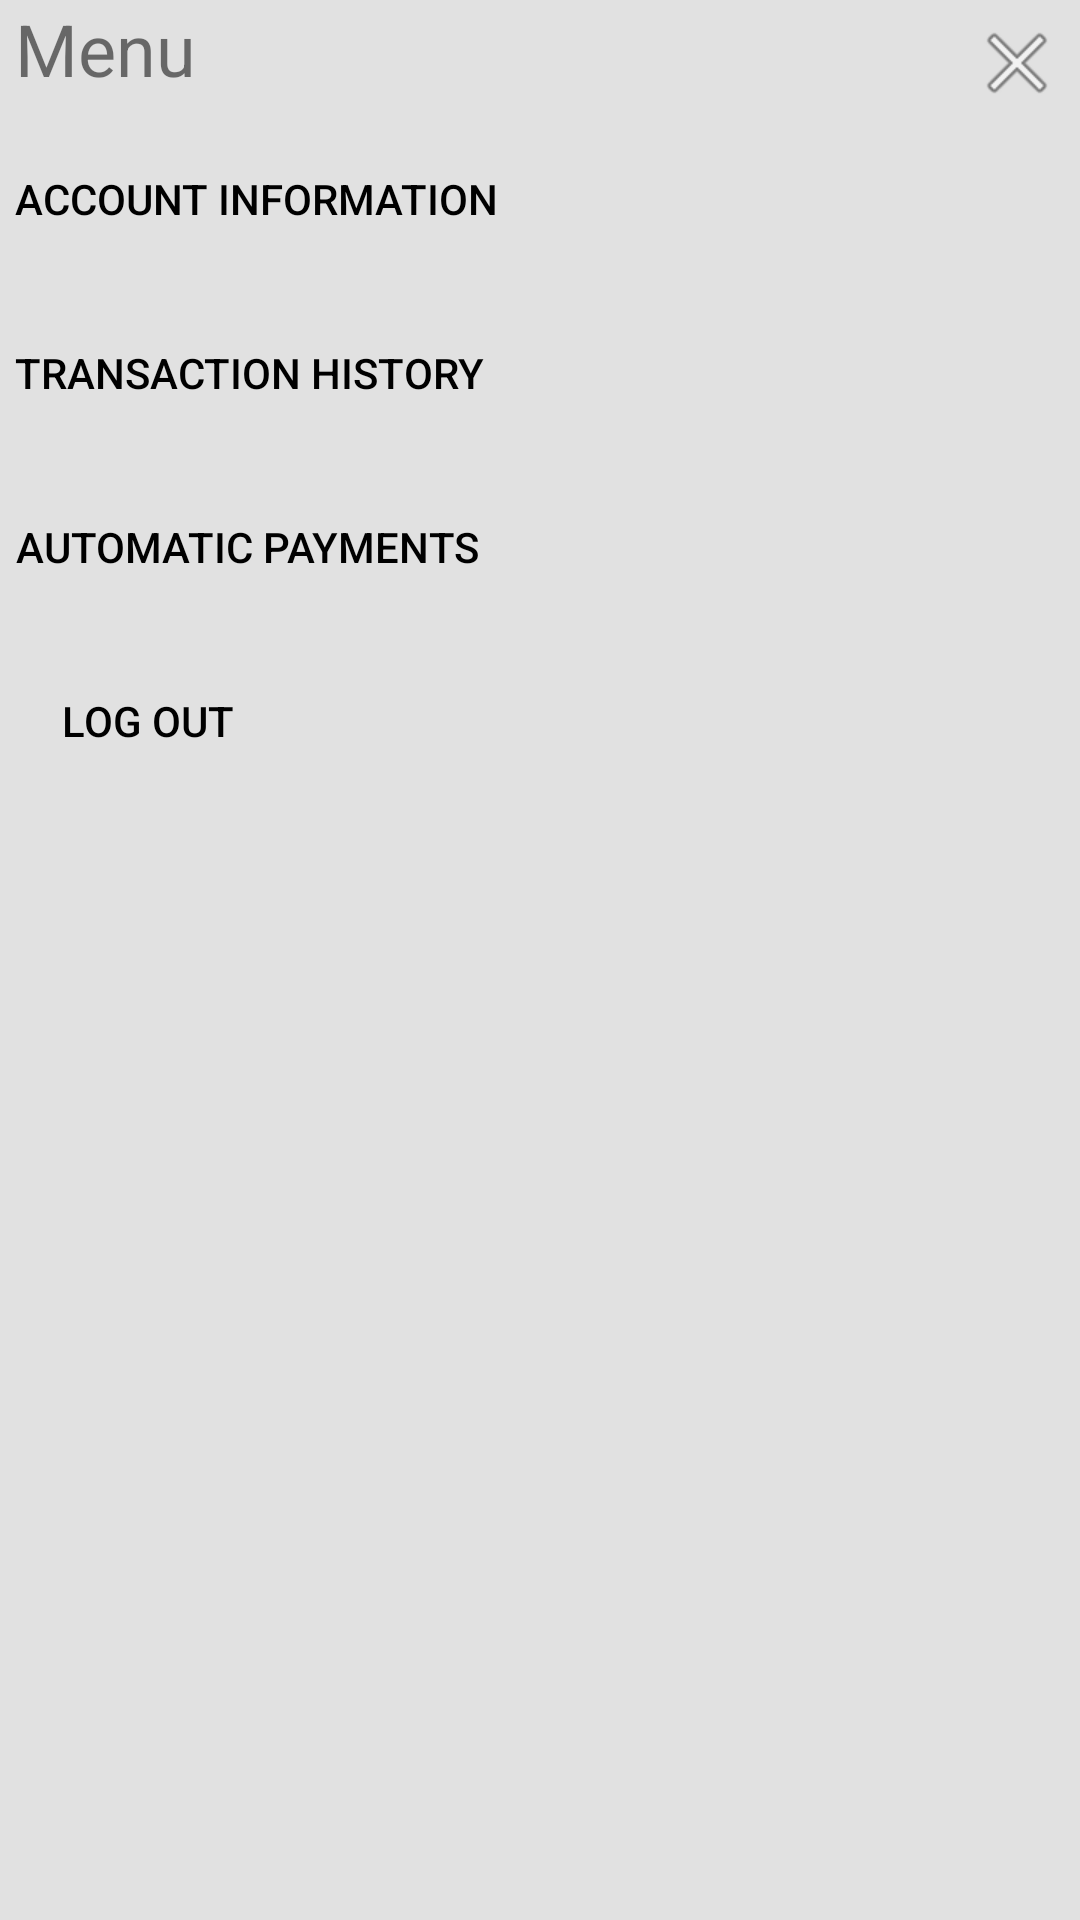

Named icons in this screenshot (1080px×1920px) and their bounding boxes, detection(x1, y1, x2, y2):
close clear cancel: detection(987, 33, 1047, 93)
